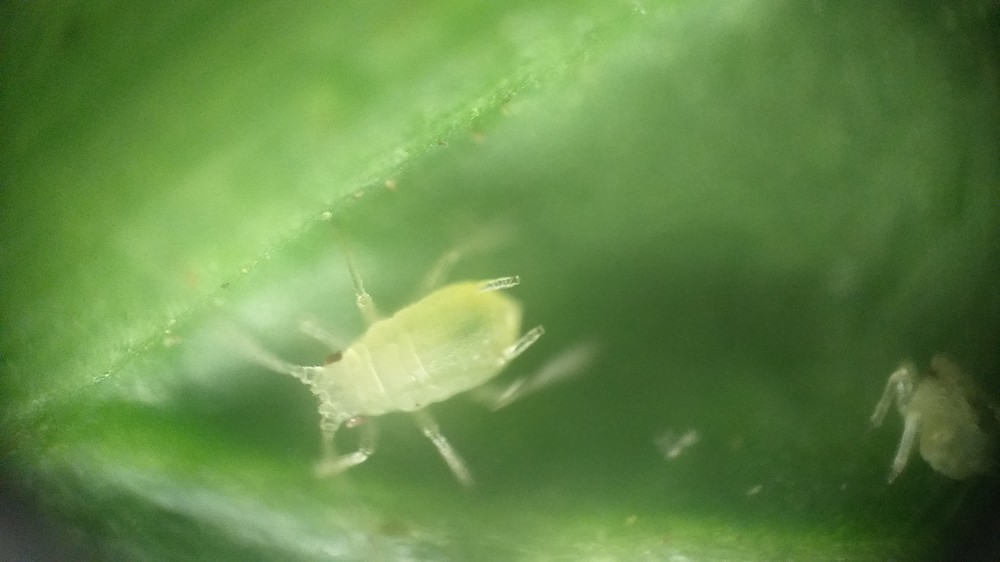Pulgon: (246, 237, 605, 515), (843, 325, 1000, 489)
